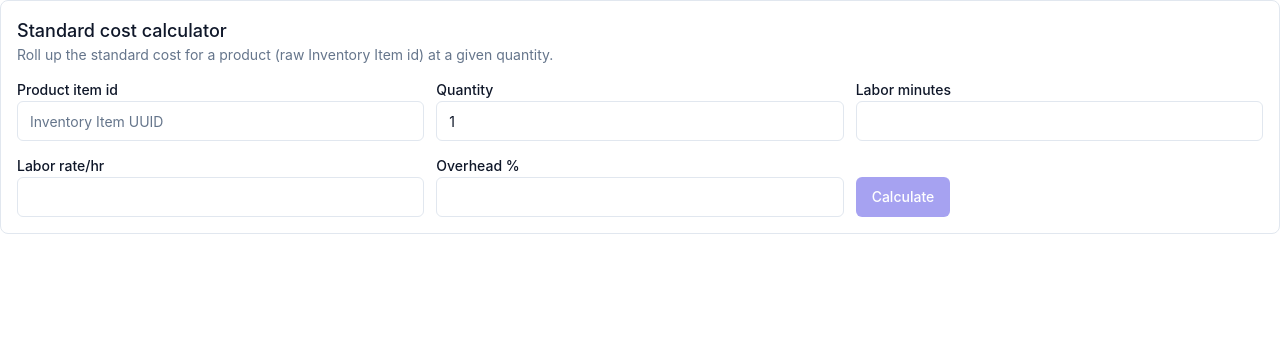
Test: StandardCostPanel › renders the cost breakdown
The image size is (1280, 337).
Type "prod-1" into the field labelled "Product item id".
click(221, 121); type("prod-1")  # box [17,101,424,141]
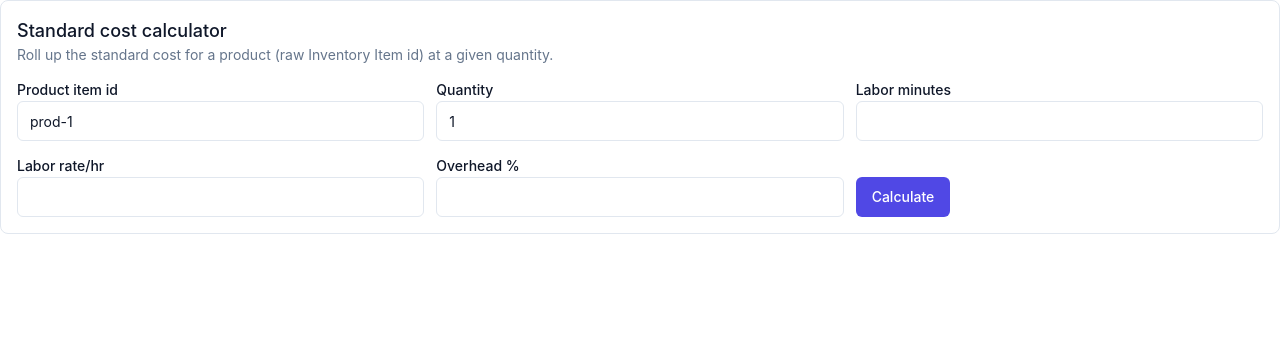
Click the button "Calculate".
click(903, 197)  # box [856,177,950,217]
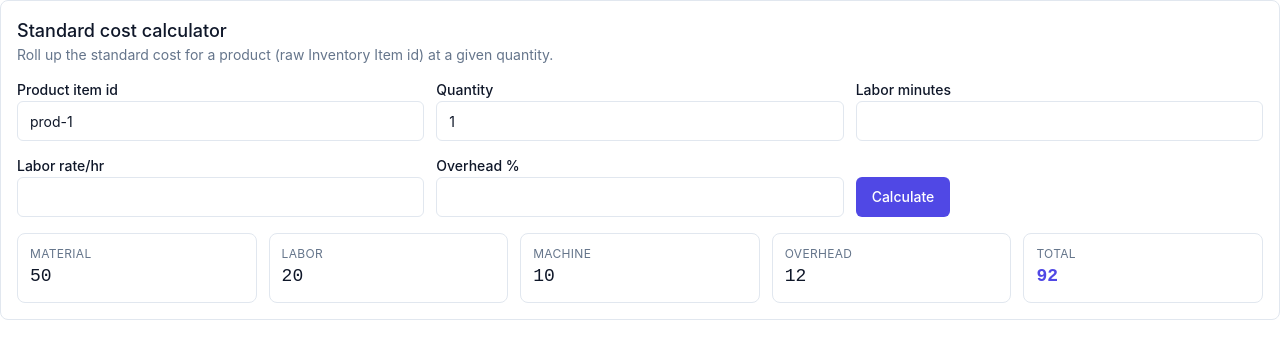
Now the text "92" is shown, box [1036,266,1058,286]
Now the text "Material" is shown, box [30,246,92,261]
Now the text "Total" is shown, box [1036,246,1076,261]
